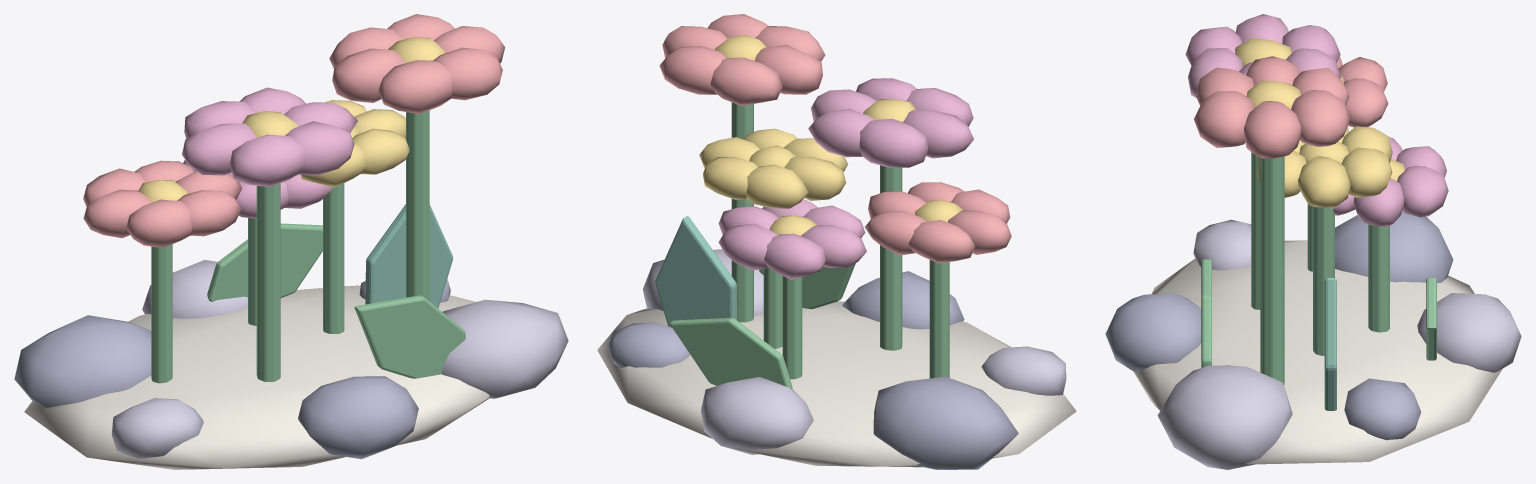
File: lagoon_flower_cluster_coral.glb
3 views of the same model, side by side, from view 1: azimuth 30°, elevation 25°; view 2: azimuth 150°, elevation 25°; view 3: azimuth 270°, elevation 25° (orthographic). The views are drawn at different scales.
Parts seen in each view (by area): view 1: lagoon_flower_cluster_coral.001; view 2: lagoon_flower_cluster_coral.001; view 3: lagoon_flower_cluster_coral.001.
Part boxes in pixels (bbox=[...]): lagoon_flower_cluster_coral.001: bbox=[14, 14, 568, 469]; lagoon_flower_cluster_coral.001: bbox=[597, 14, 1076, 469]; lagoon_flower_cluster_coral.001: bbox=[1105, 14, 1521, 469].
Bounding box in the file's own units: 2.92 × 2.15 × 2.26.
